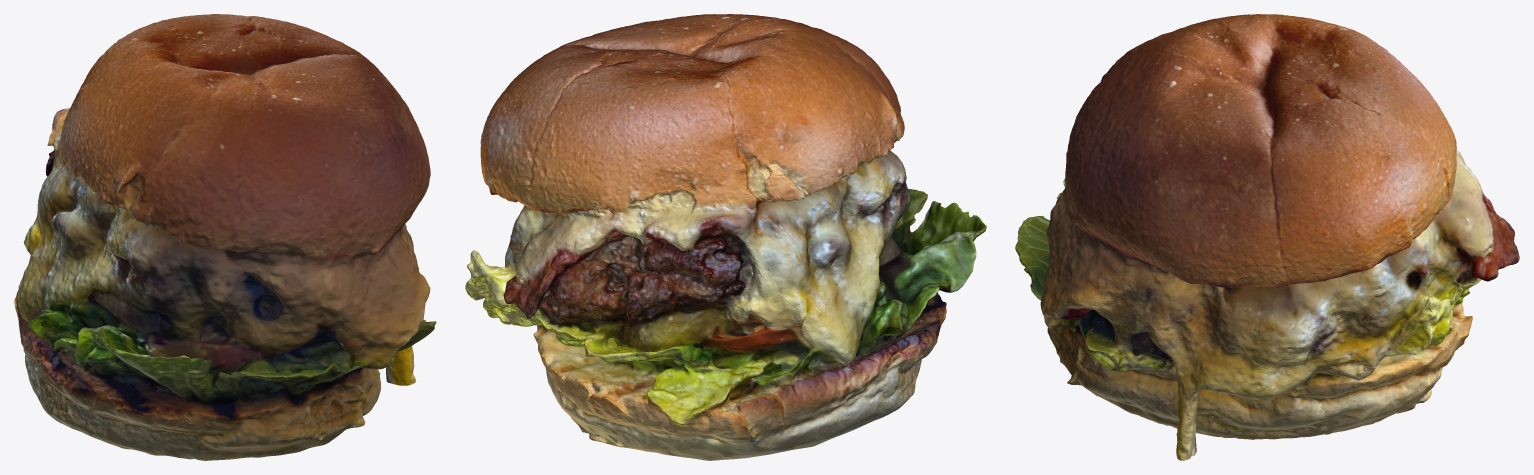
The model's file is cheeseburger-v1.glb.
3 views of the same model, side by side, from view 1: azimuth 30°, elevation 25°; view 2: azimuth 150°, elevation 25°; view 3: azimuth 270°, elevation 25° (orthographic). The views are drawn at different scales.
Size of the model in its own units: 0.1272 by 0.1064 by 0.1438.
1 material, 1 textured.
